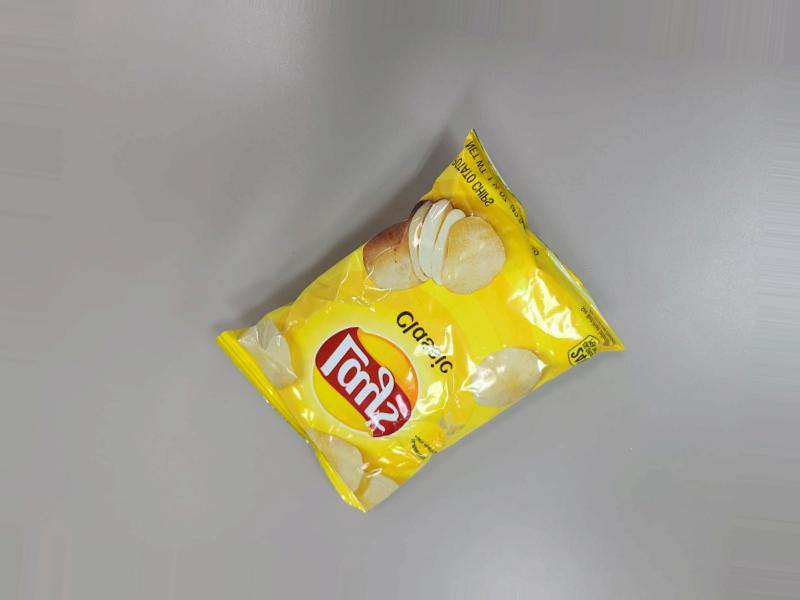lays: (197, 119, 612, 547)
